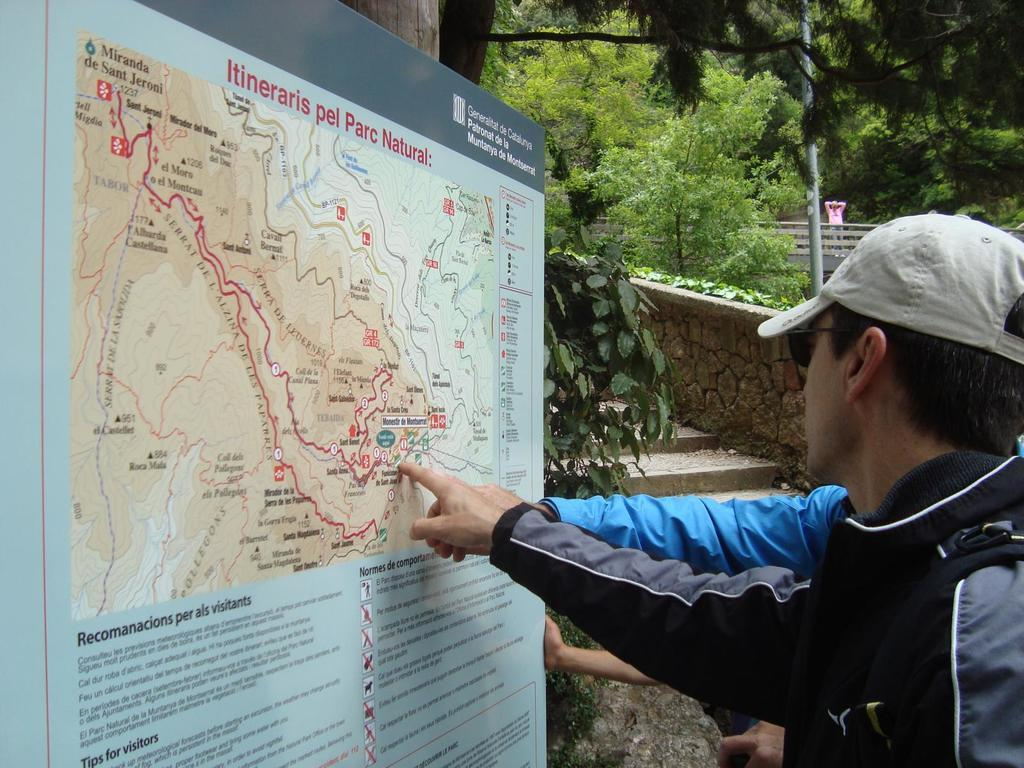Hat: (754, 212, 1022, 361)
